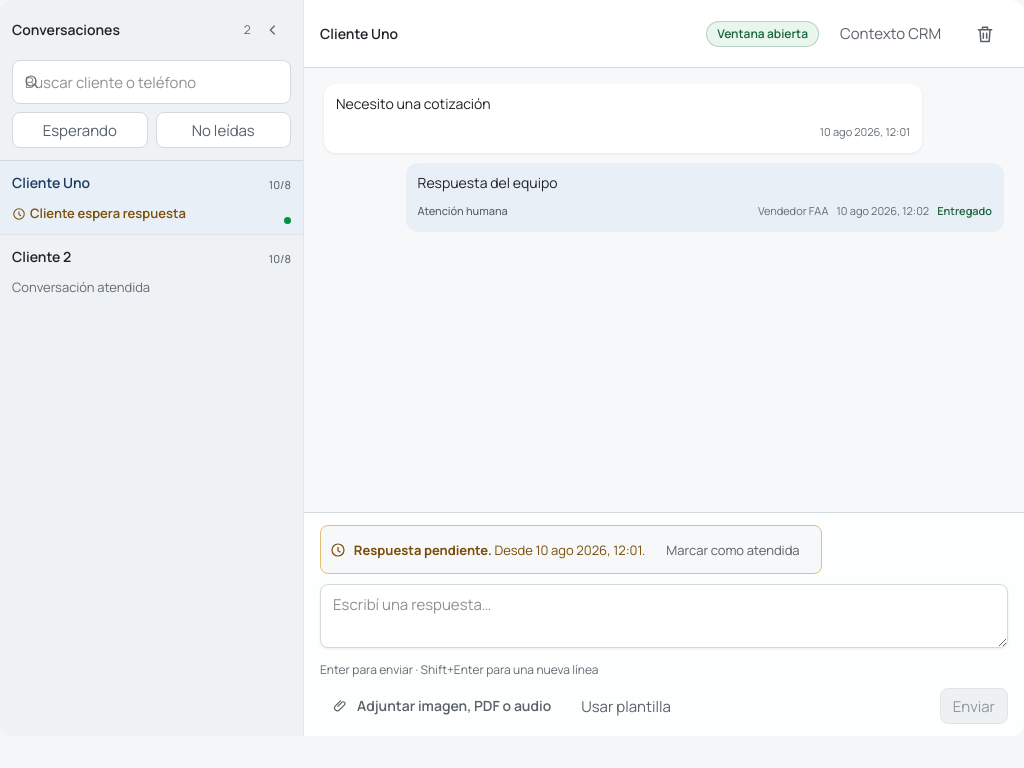
WhatsAppInboxPage › keeps a conversation after canceling deletion and removes it only after confirmation
Expected: the heading "Cliente Uno" is shown, [320,24,398,44]
Expected: the text "Necesito una cotización" is shown, [336,94,491,113]
Click the button named "Eliminar conversación".
click(985, 34)  # box [962,16,1008,52]
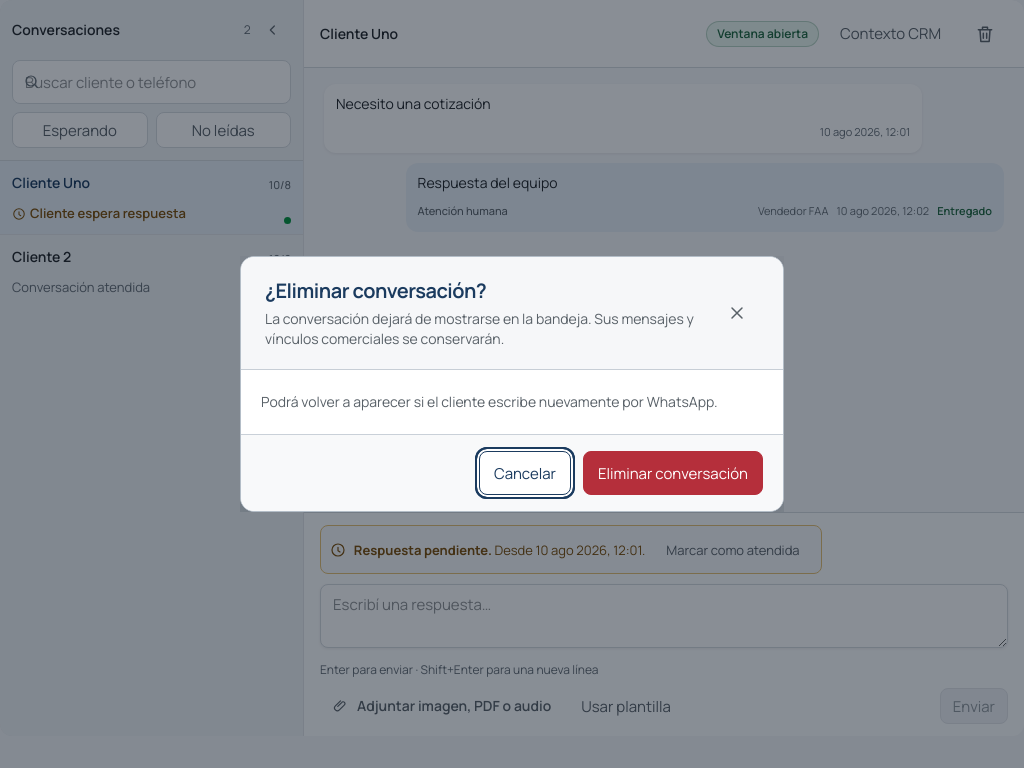
Click the button "Cancelar".
click(525, 473)  # box [479,451,571,495]
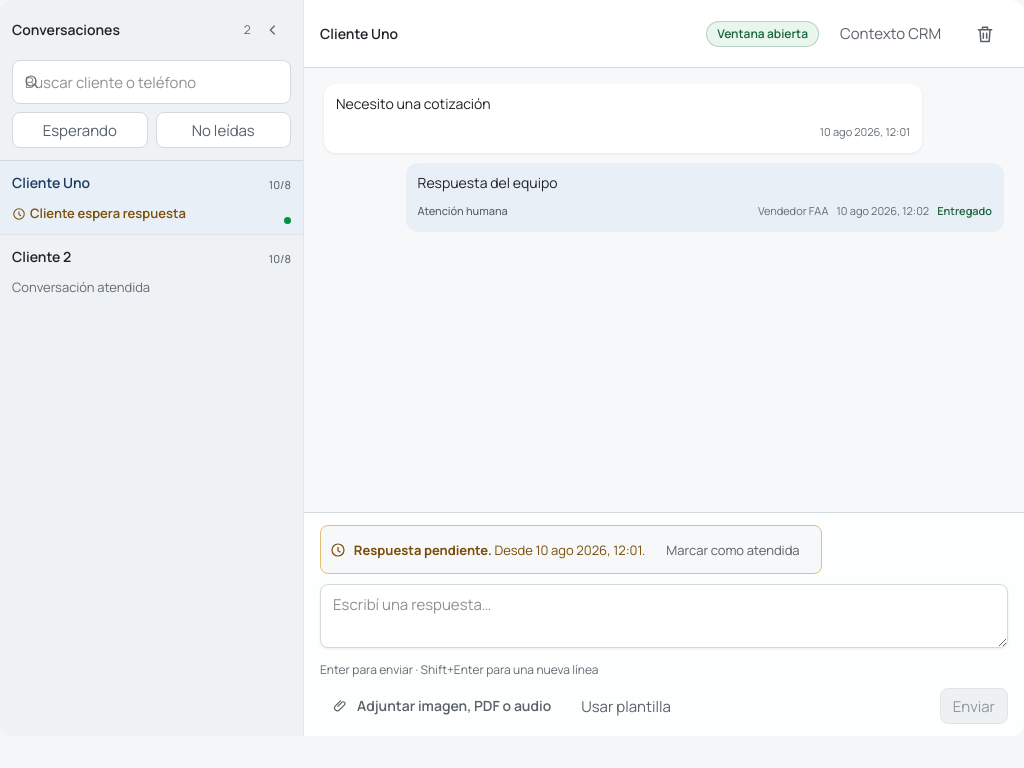
Expected: the button with id "whatsapp-conversation-1" is shown, [0,161,303,234]
Result: the heading "¿Eliminar conversación?" is gone
Click the button named "Eliminar conversación".
click(985, 34)  # box [962,16,1008,52]
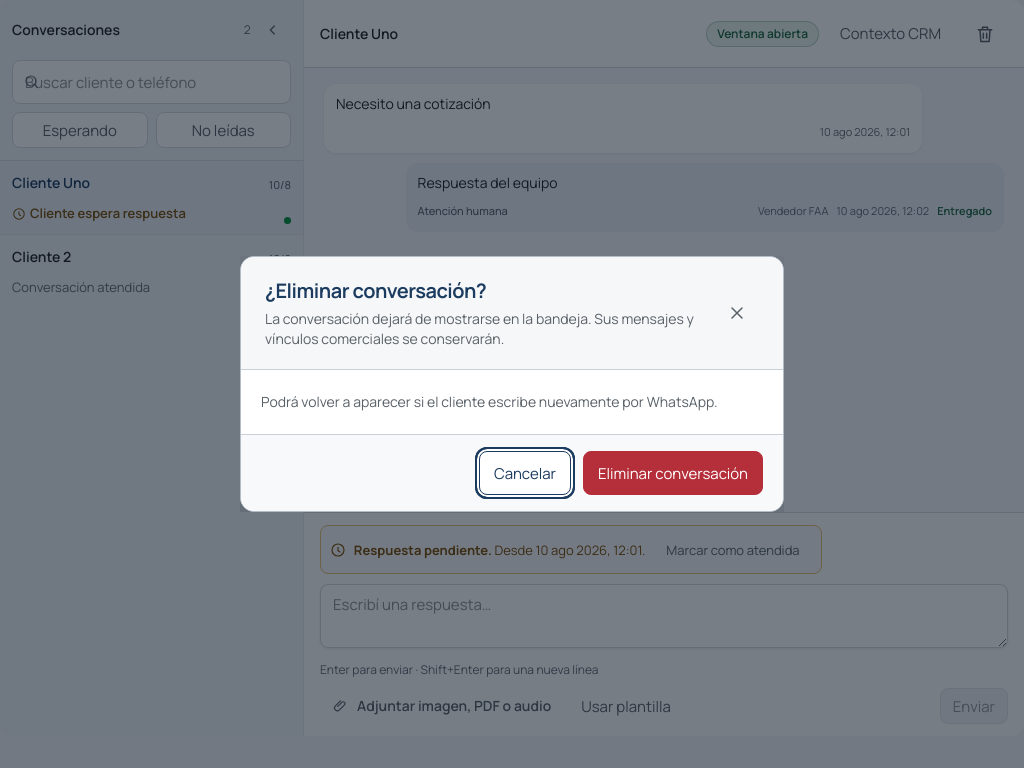
Click the button "Eliminar conversación".
click(673, 473)  # box [583,451,763,495]
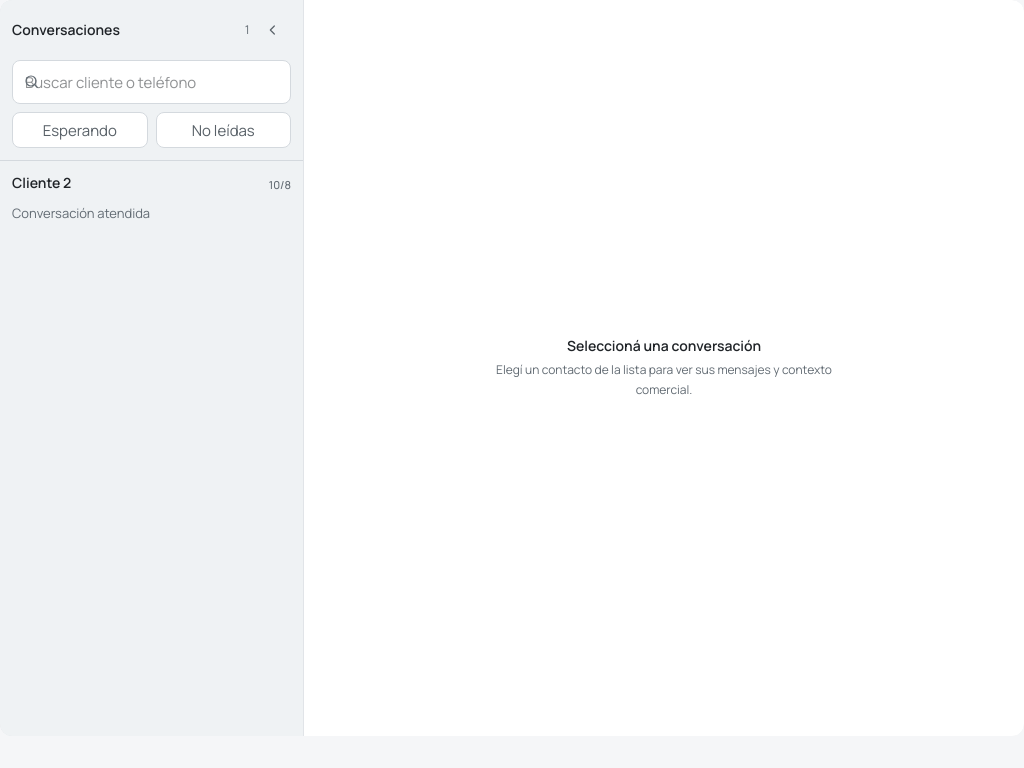
Result: the heading "¿Eliminar conversación?" is gone
Result: the button with id "whatsapp-conversation-1" is gone
